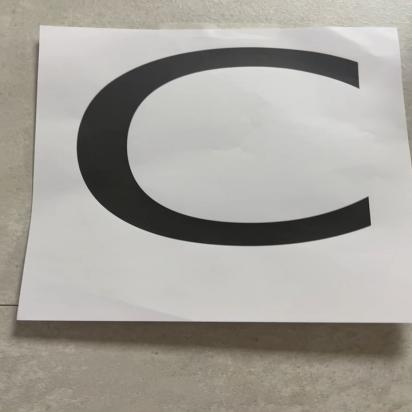seat: (28, 9, 412, 322)
